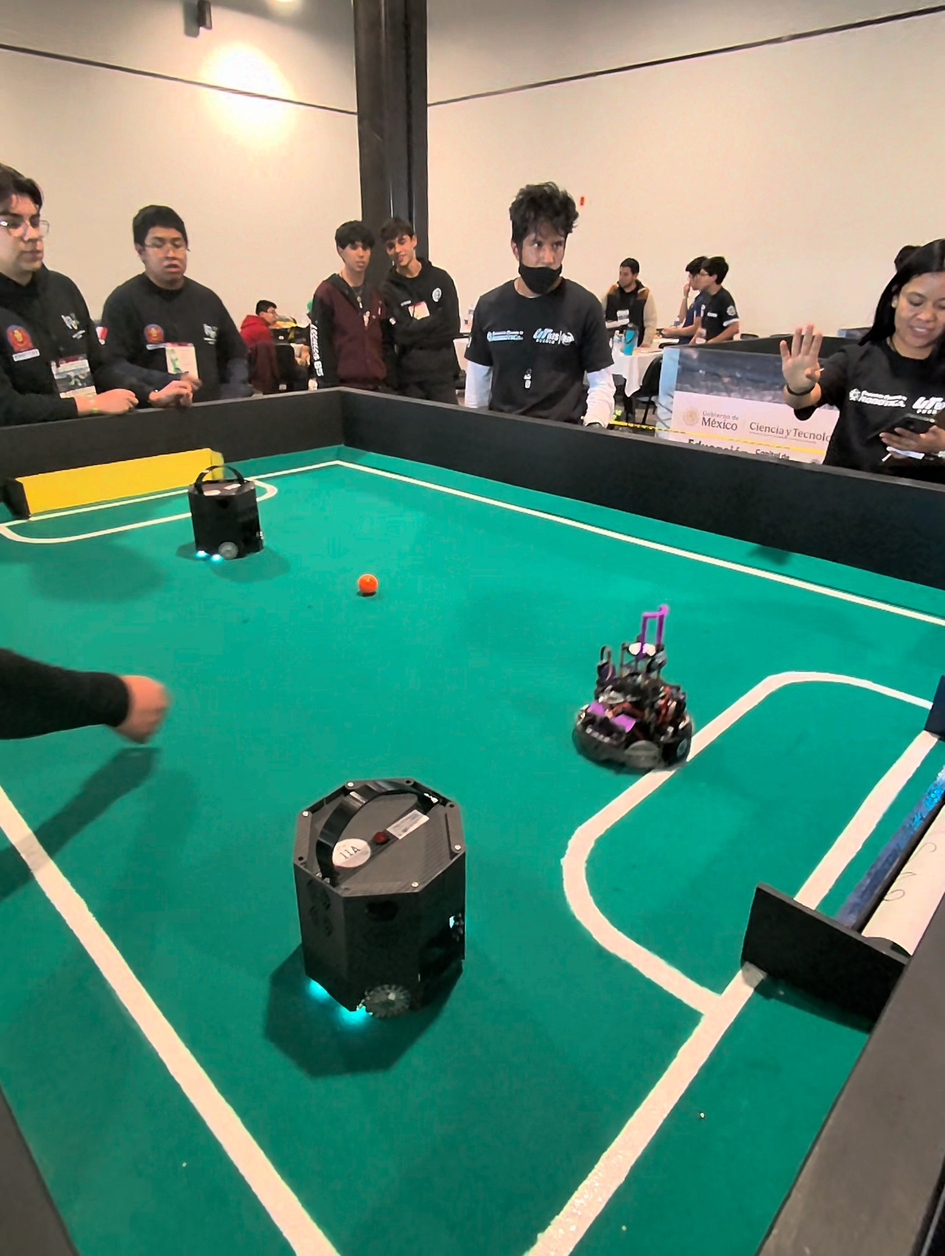Robot: (287, 745, 467, 1067), (574, 611, 694, 780), (181, 450, 266, 582)
pelota: (358, 572, 378, 593)
